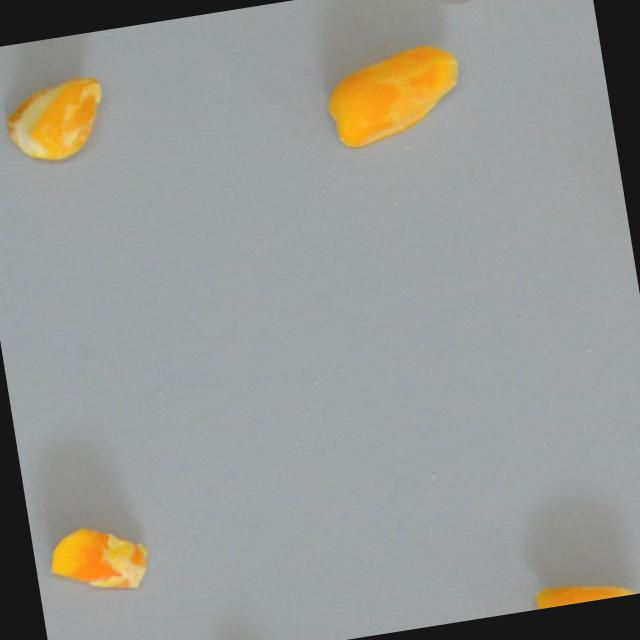estandar: (320, 41, 468, 150)
pelicula: (0, 72, 112, 169), (42, 515, 154, 605), (534, 574, 640, 610)
